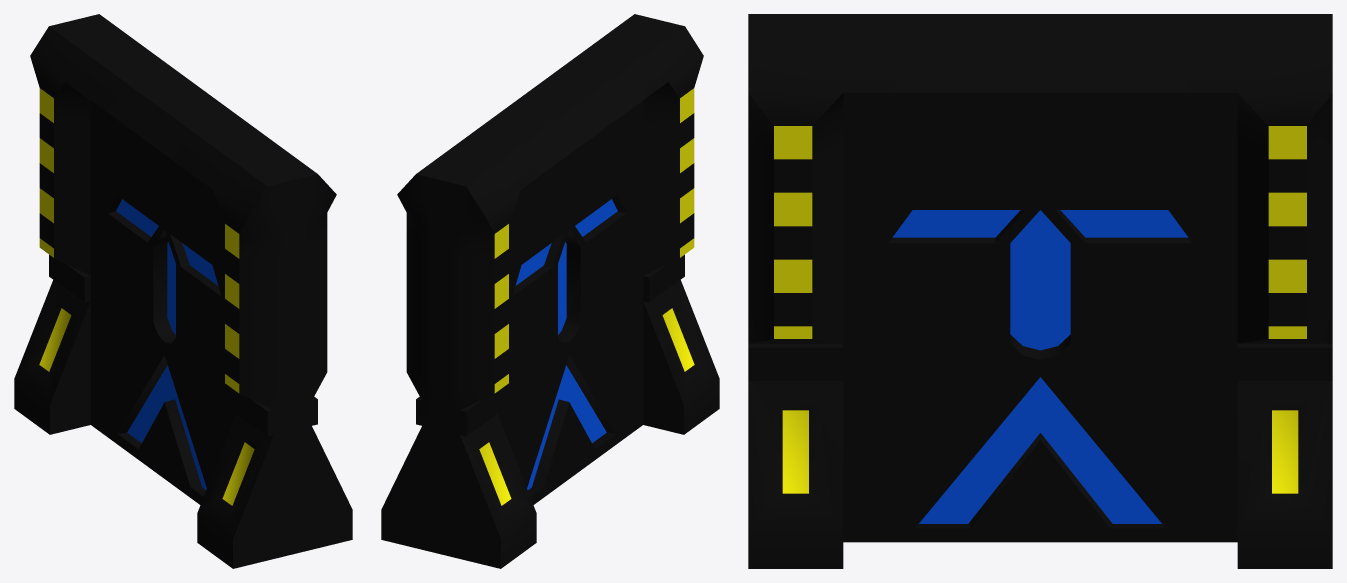
The model's file is door1x1.fbx.
The picture shows the model from 3 angles, left to right: view 1: azimuth 30°, elevation 25°; view 2: azimuth 150°, elevation 25°; view 3: azimuth 270°, elevation 25°; orthographic projection. The views are drawn at different scales.
Parts seen in each view (by area): view 1: Door1x1; view 2: Door1x1; view 3: Door1x1.
Boxes of the visible parts, x1,y1,x2,y2 form: Door1x1: (14,14,352,568); Door1x1: (381,14,719,568); Door1x1: (748,14,1332,568).
Size of the model in its own units: 0.00315 by 0.00943 by 0.01.
